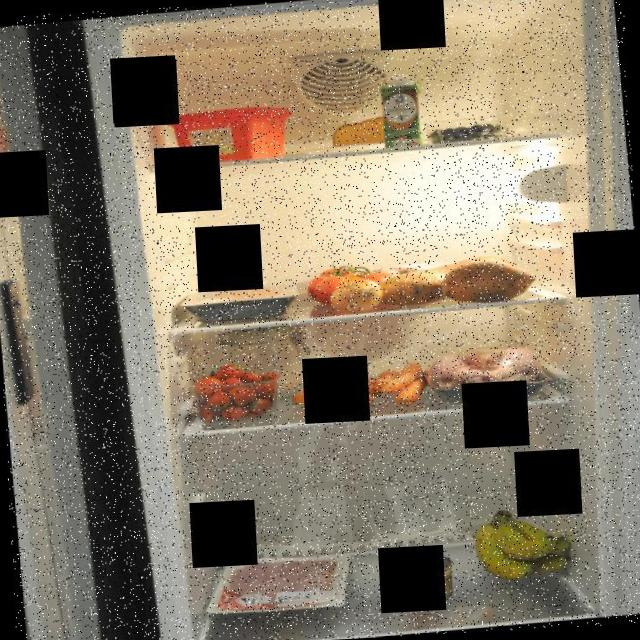Carne cerdo: (220, 552, 346, 614)
Carne pollo: (430, 341, 560, 406)
Carne vacuno: (177, 280, 303, 325)
Cebolla: (328, 276, 387, 314)
Mantequilla: (160, 104, 300, 164)
Plátano: (465, 498, 584, 587)
Queso: (330, 114, 402, 152)
Tomate: (304, 256, 400, 308)
Zanahoria: (288, 362, 431, 417)
blueberries: (426, 118, 516, 146)
corn: (398, 552, 458, 606)
flour: (211, 321, 322, 412)
heavy_cream: (374, 70, 426, 148)
strawberries: (188, 358, 286, 428)
sweet_potato: (378, 250, 538, 312)
